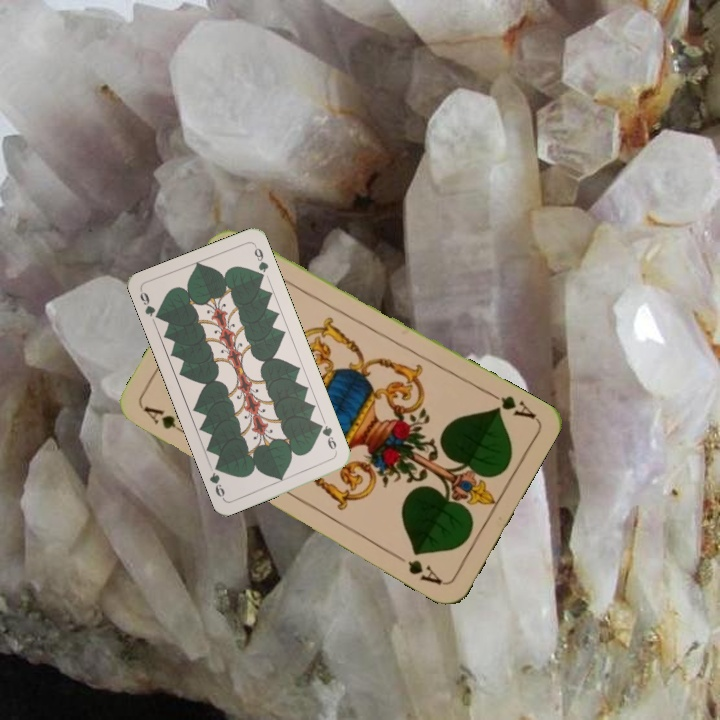G9: (136, 286, 164, 323), (314, 419, 340, 457)
GA: (140, 402, 194, 441), (483, 387, 539, 422)
